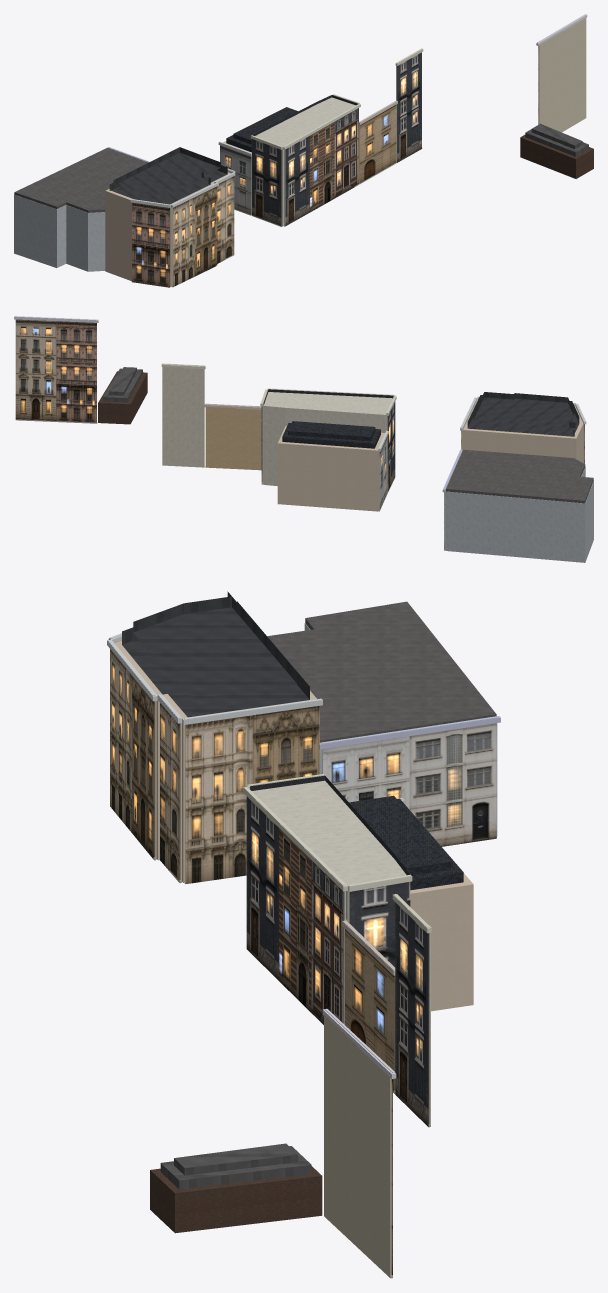
3 renders of one model, top to bottom at view 1: azimuth 30°, elevation 25°; view 2: azimuth 150°, elevation 25°; view 3: azimuth 270°, elevation 25°, orthographic. The views are drawn at different scales.
Parts seen in each view (by area): view 1: bldg_512812606_facade1, bldg_512812600, bldg_231689700_facade0, bldg_512812600_roof, bldg_512812601_facade0, bldg_512812601_facade3, bldg_512812601_roof_b, bldg_512812608_facade0, bldg_512812606_facade0, bldg_512812601, bldg_511537797_facade0, bldg_512812606 (+7 smaller); view 2: bldg_512812600, bldg_231689700_facade0, bldg_512812605, bldg_512812600_roof, bldg_512812606, bldg_512812608_facade0, bldg_511537797_facade0, bldg_512812601_roof_b, bldg_512812601, bldg_512812605_roof_b, bldg_790160387, bldg_512812601_roof_a (+6 smaller); view 3: bldg_512812600_roof, bldg_512812601_facade2, bldg_512812606_facade1, bldg_512812600_facade0, bldg_231689700_facade0, bldg_512812601_roof_b, bldg_512812601_facade0, bldg_790160387, bldg_512812606, bldg_512812608_facade0, bldg_512812605, bldg_511537797_facade0 (+9 smaller).
Boxes of the visible parts, x1=… form: bldg_512812606_facade1: x1=282, y1=104, x2=360, y2=226; bldg_512812600: x1=14, y1=194, x2=105, y2=271; bldg_231689700_facade0: x1=536, y1=14, x2=587, y2=132; bldg_512812600_roof: x1=14, y1=148, x2=148, y2=212; bldg_512812601_facade0: x1=171, y1=182, x2=218, y2=287; bldg_512812601_facade3: x1=130, y1=199, x2=170, y2=287; bldg_512812601_roof_b: x1=113, y1=147, x2=220, y2=195; bldg_512812608_facade0: x1=395, y1=48, x2=423, y2=162; bldg_512812606_facade0: x1=250, y1=135, x2=282, y2=226; bldg_512812601: x1=105, y1=172, x2=230, y2=286; bldg_511537797_facade0: x1=358, y1=100, x2=397, y2=184; bldg_512812606: x1=255, y1=97, x2=355, y2=226; bldg_512812600: x1=445, y1=467, x2=593, y2=562; bldg_231689700_facade0: x1=14, y1=316, x2=98, y2=423; bldg_512812605: x1=277, y1=426, x2=384, y2=511; bldg_512812600_roof: x1=446, y1=449, x2=593, y2=503; bldg_512812606: x1=263, y1=392, x2=392, y2=485; bldg_512812608_facade0: x1=161, y1=363, x2=205, y2=467; bldg_511537797_facade0: x1=204, y1=403, x2=261, y2=470; bldg_512812601_roof_b: x1=473, y1=392, x2=575, y2=427; bldg_512812601: x1=463, y1=400, x2=583, y2=462; bldg_512812605_roof_b: x1=288, y1=421, x2=375, y2=441; bldg_790160387: x1=98, y1=371, x2=147, y2=424; bldg_512812601_roof_a: x1=467, y1=395, x2=579, y2=436; bldg_512812600_roof: x1=267, y1=601, x2=496, y2=742; bldg_512812601_facade2: x1=182, y1=698, x2=322, y2=884; bldg_512812606_facade1: x1=243, y1=787, x2=347, y2=1024; bldg_512812600_facade0: x1=319, y1=716, x2=500, y2=846; bldg_231689700_facade0: x1=322, y1=1008, x2=396, y2=1278; bldg_512812601_roof_b: x1=133, y1=591, x2=297, y2=698; bldg_512812601_facade0: x1=107, y1=639, x2=157, y2=860; bldg_790160387: x1=150, y1=1166, x2=322, y2=1233; bldg_512812606: x1=252, y1=780, x2=406, y2=922; bldg_512812608_facade0: x1=392, y1=894, x2=431, y2=1127; bldg_512812605: x1=410, y1=873, x2=473, y2=1011; bldg_511537797_facade0: x1=342, y1=920, x2=395, y2=1093.
Size of the model in its own units: 94.35 by 16.31 by 28.25.
Materials: 25 (13 with a texture image).
